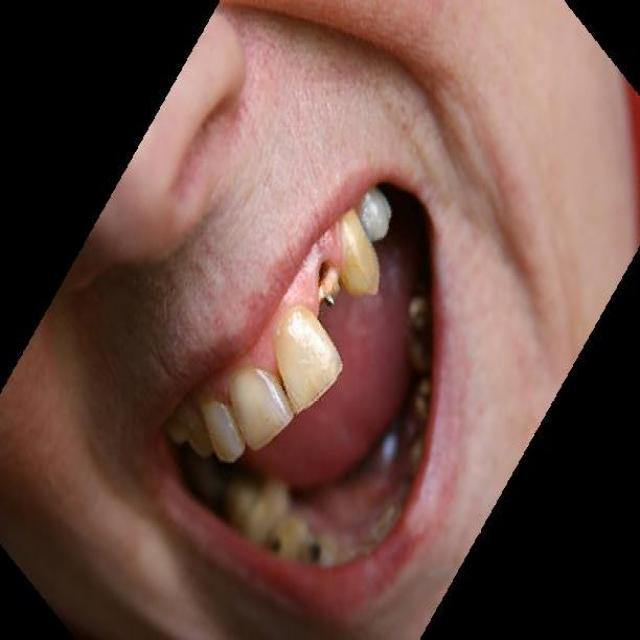caries: (295, 525, 335, 584), (255, 508, 292, 570), (314, 258, 349, 318)
